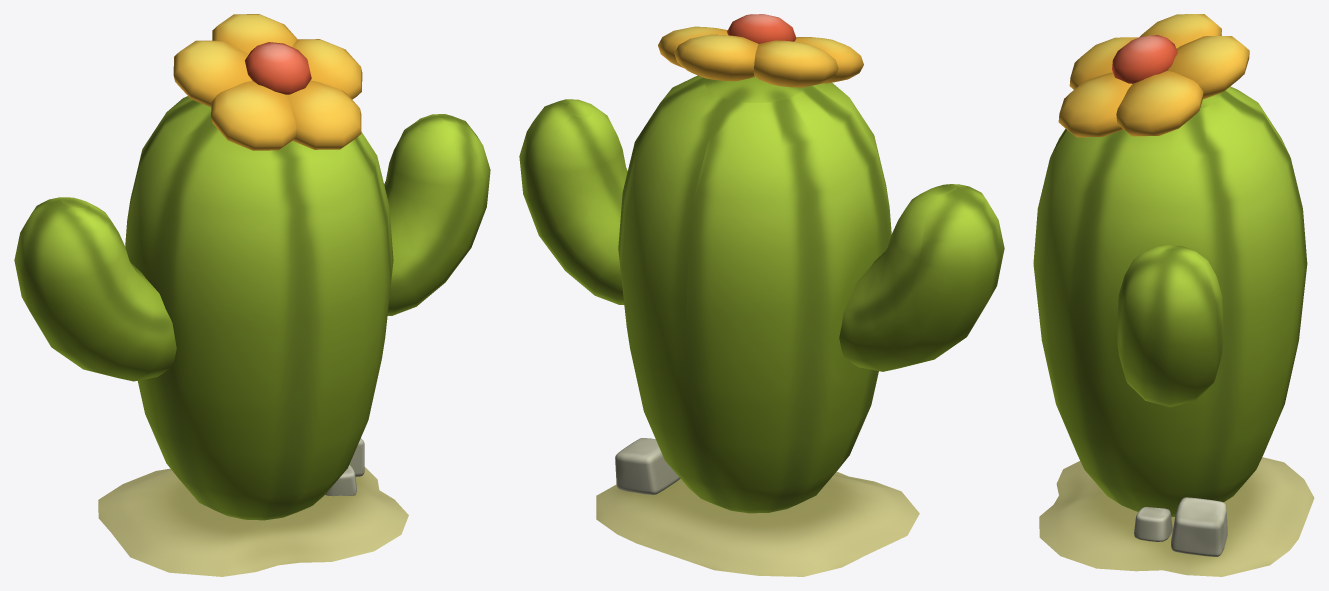
File: Cactus01.fbx
The picture shows the model from 3 angles, left to right: view 1: azimuth 30°, elevation 25°; view 2: azimuth 150°, elevation 25°; view 3: azimuth 270°, elevation 25°; orthographic projection.
Visible parts, largest first — view 1: Cactus01; view 2: Cactus01; view 3: Cactus01.
Part boxes in pixels (x1=…): Cactus01: x1=14, y1=14, x2=490, y2=576; Cactus01: x1=519, y1=14, x2=1004, y2=576; Cactus01: x1=1033, y1=14, x2=1314, y2=576.
Size of the model in its own units: 177 by 174 by 92.82.
